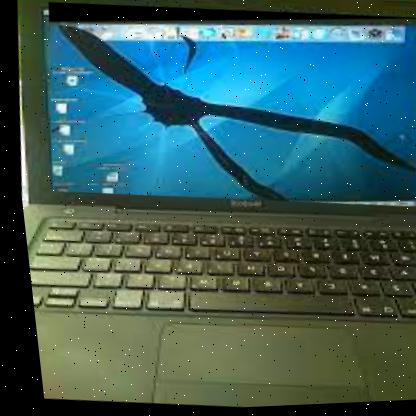crack: (30, 0, 415, 226)
